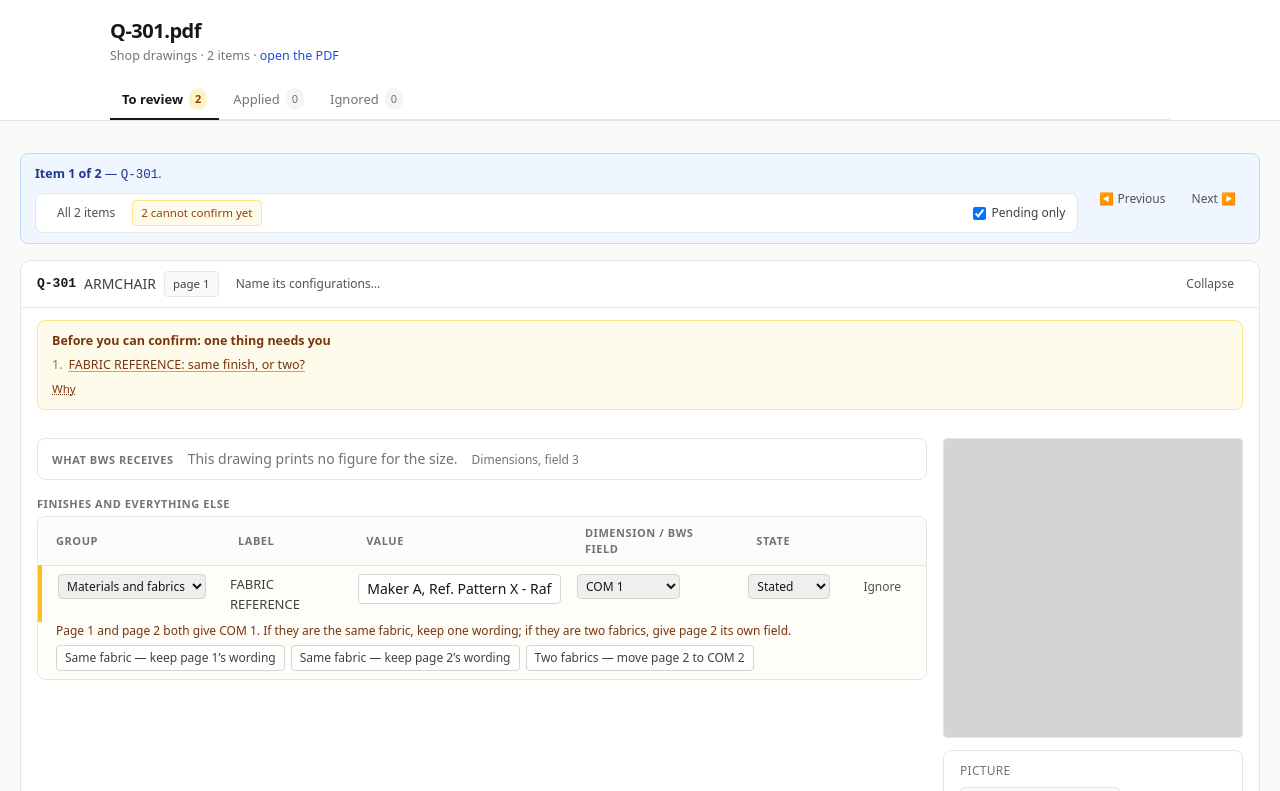
the three answers › keeping page 1 gives it page 2's code, then ignores page 2 'same as page 1'
Click the button "Same fabric — keep page 1’s wording".
click(170, 658)  # box [56,645,285,671]
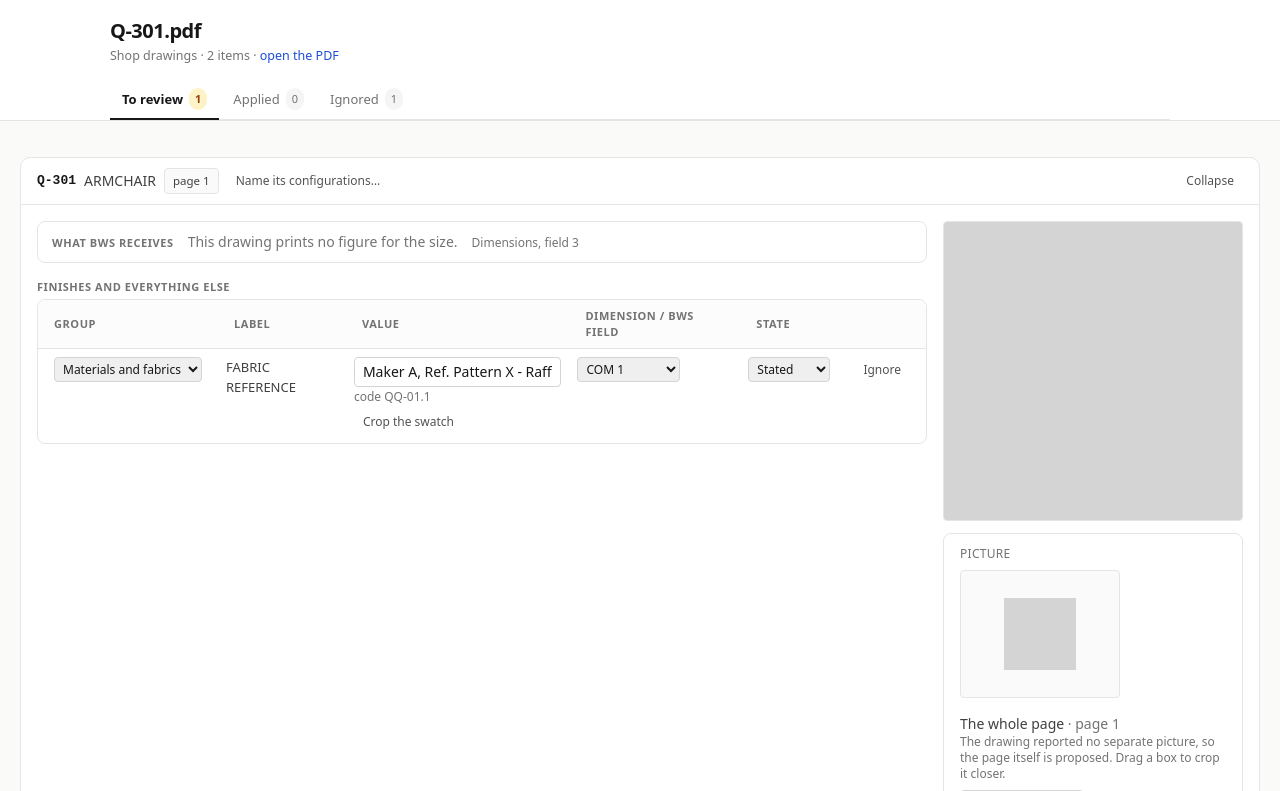
Now the button "Same fabric" is gone
